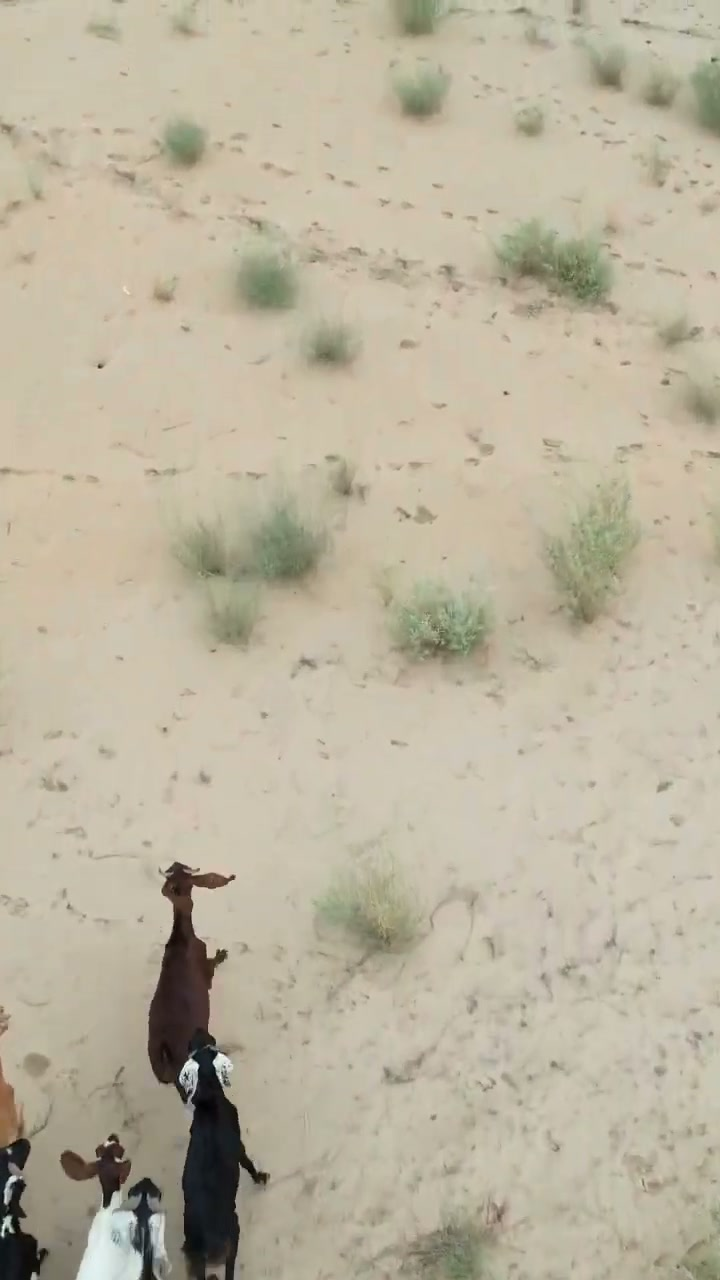animal_foot_print: (9, 716, 206, 1147)
